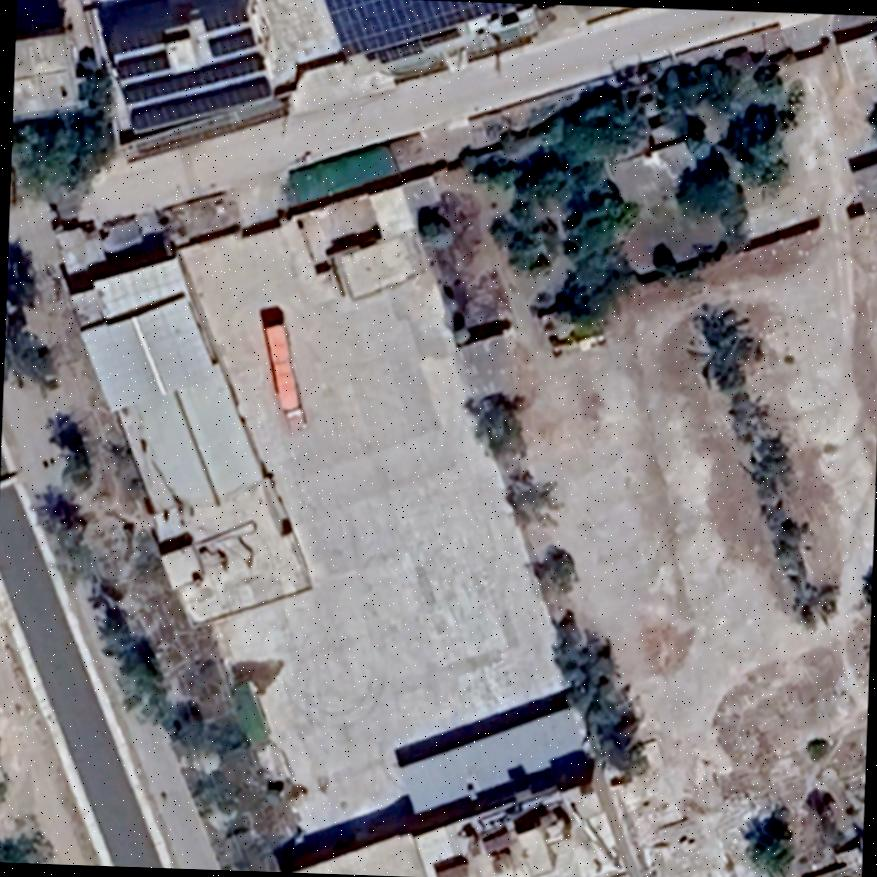Solarpanel: (87, 0, 284, 135), (318, 0, 555, 75)
